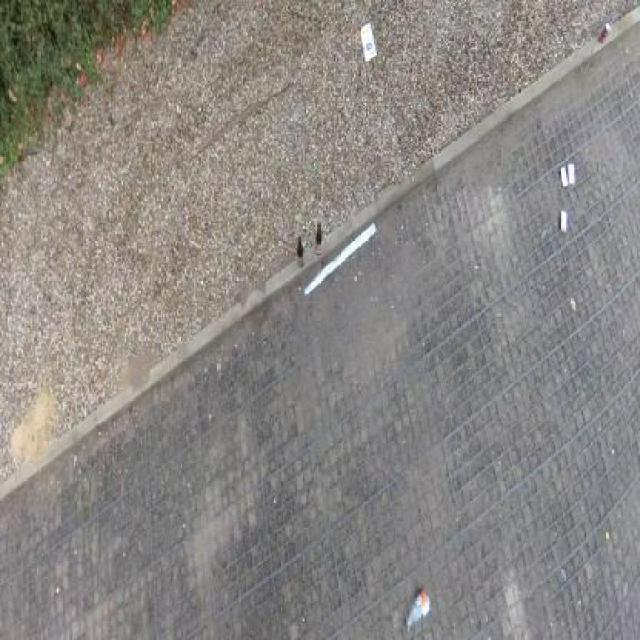Garbage: (303, 223, 377, 298), (404, 584, 432, 632), (359, 23, 378, 63), (315, 221, 323, 253), (598, 24, 610, 44), (297, 239, 304, 267), (560, 167, 568, 188), (559, 212, 567, 232), (568, 164, 575, 186)
